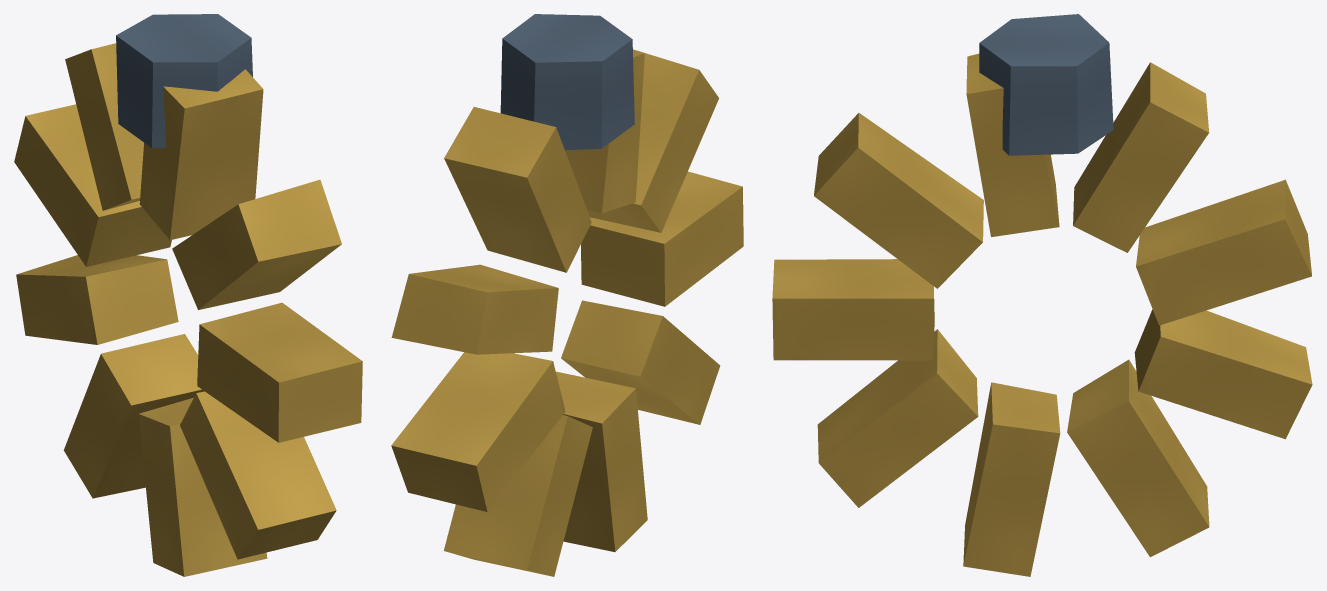
The model's file is lost_ring.glb.
3 renders of one model, left to right at view 1: azimuth 30°, elevation 25°; view 2: azimuth 150°, elevation 25°; view 3: azimuth 270°, elevation 25°, orthographic.
Visible parts, largest first — view 1: LostRing; view 2: LostRing; view 3: LostRing.
Part boxes in pixels (<box>): LostRing: <box>14,14,362,576</box>; LostRing: <box>391,14,743,576</box>; LostRing: <box>772,14,1312,576</box>.
Bounding box in the file's own units: 0.0355 × 0.1675 × 0.1586.
Materials: 2 (2 with a texture image).
